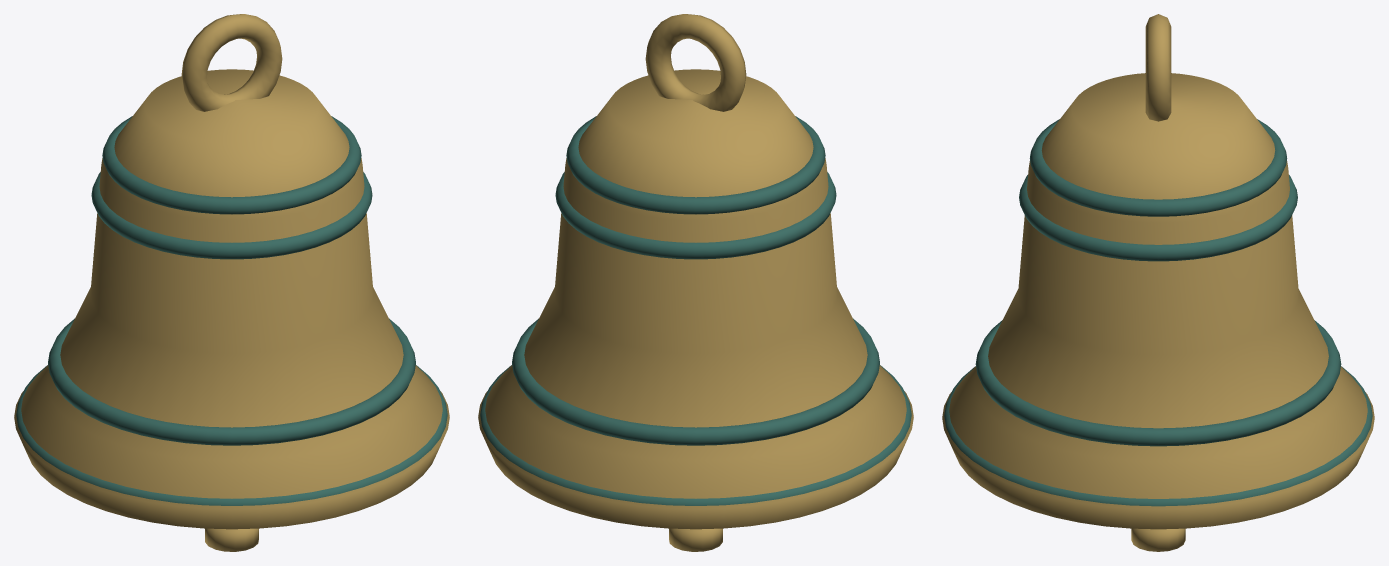
Rendered from ritual_bell.glb.
The picture shows the model from 3 angles, left to right: view 1: azimuth 30°, elevation 25°; view 2: azimuth 150°, elevation 25°; view 3: azimuth 270°, elevation 25°; orthographic projection.
Parts seen in each view (by area): view 1: ritual_bell; view 2: ritual_bell; view 3: ritual_bell.
Boxes of the visible parts, bbox=[...] form: ritual_bell: bbox=[14, 14, 449, 551]; ritual_bell: bbox=[478, 14, 913, 551]; ritual_bell: bbox=[942, 14, 1374, 551].
Bounding box in the file's own units: 0.4 × 0.542 × 0.4.
